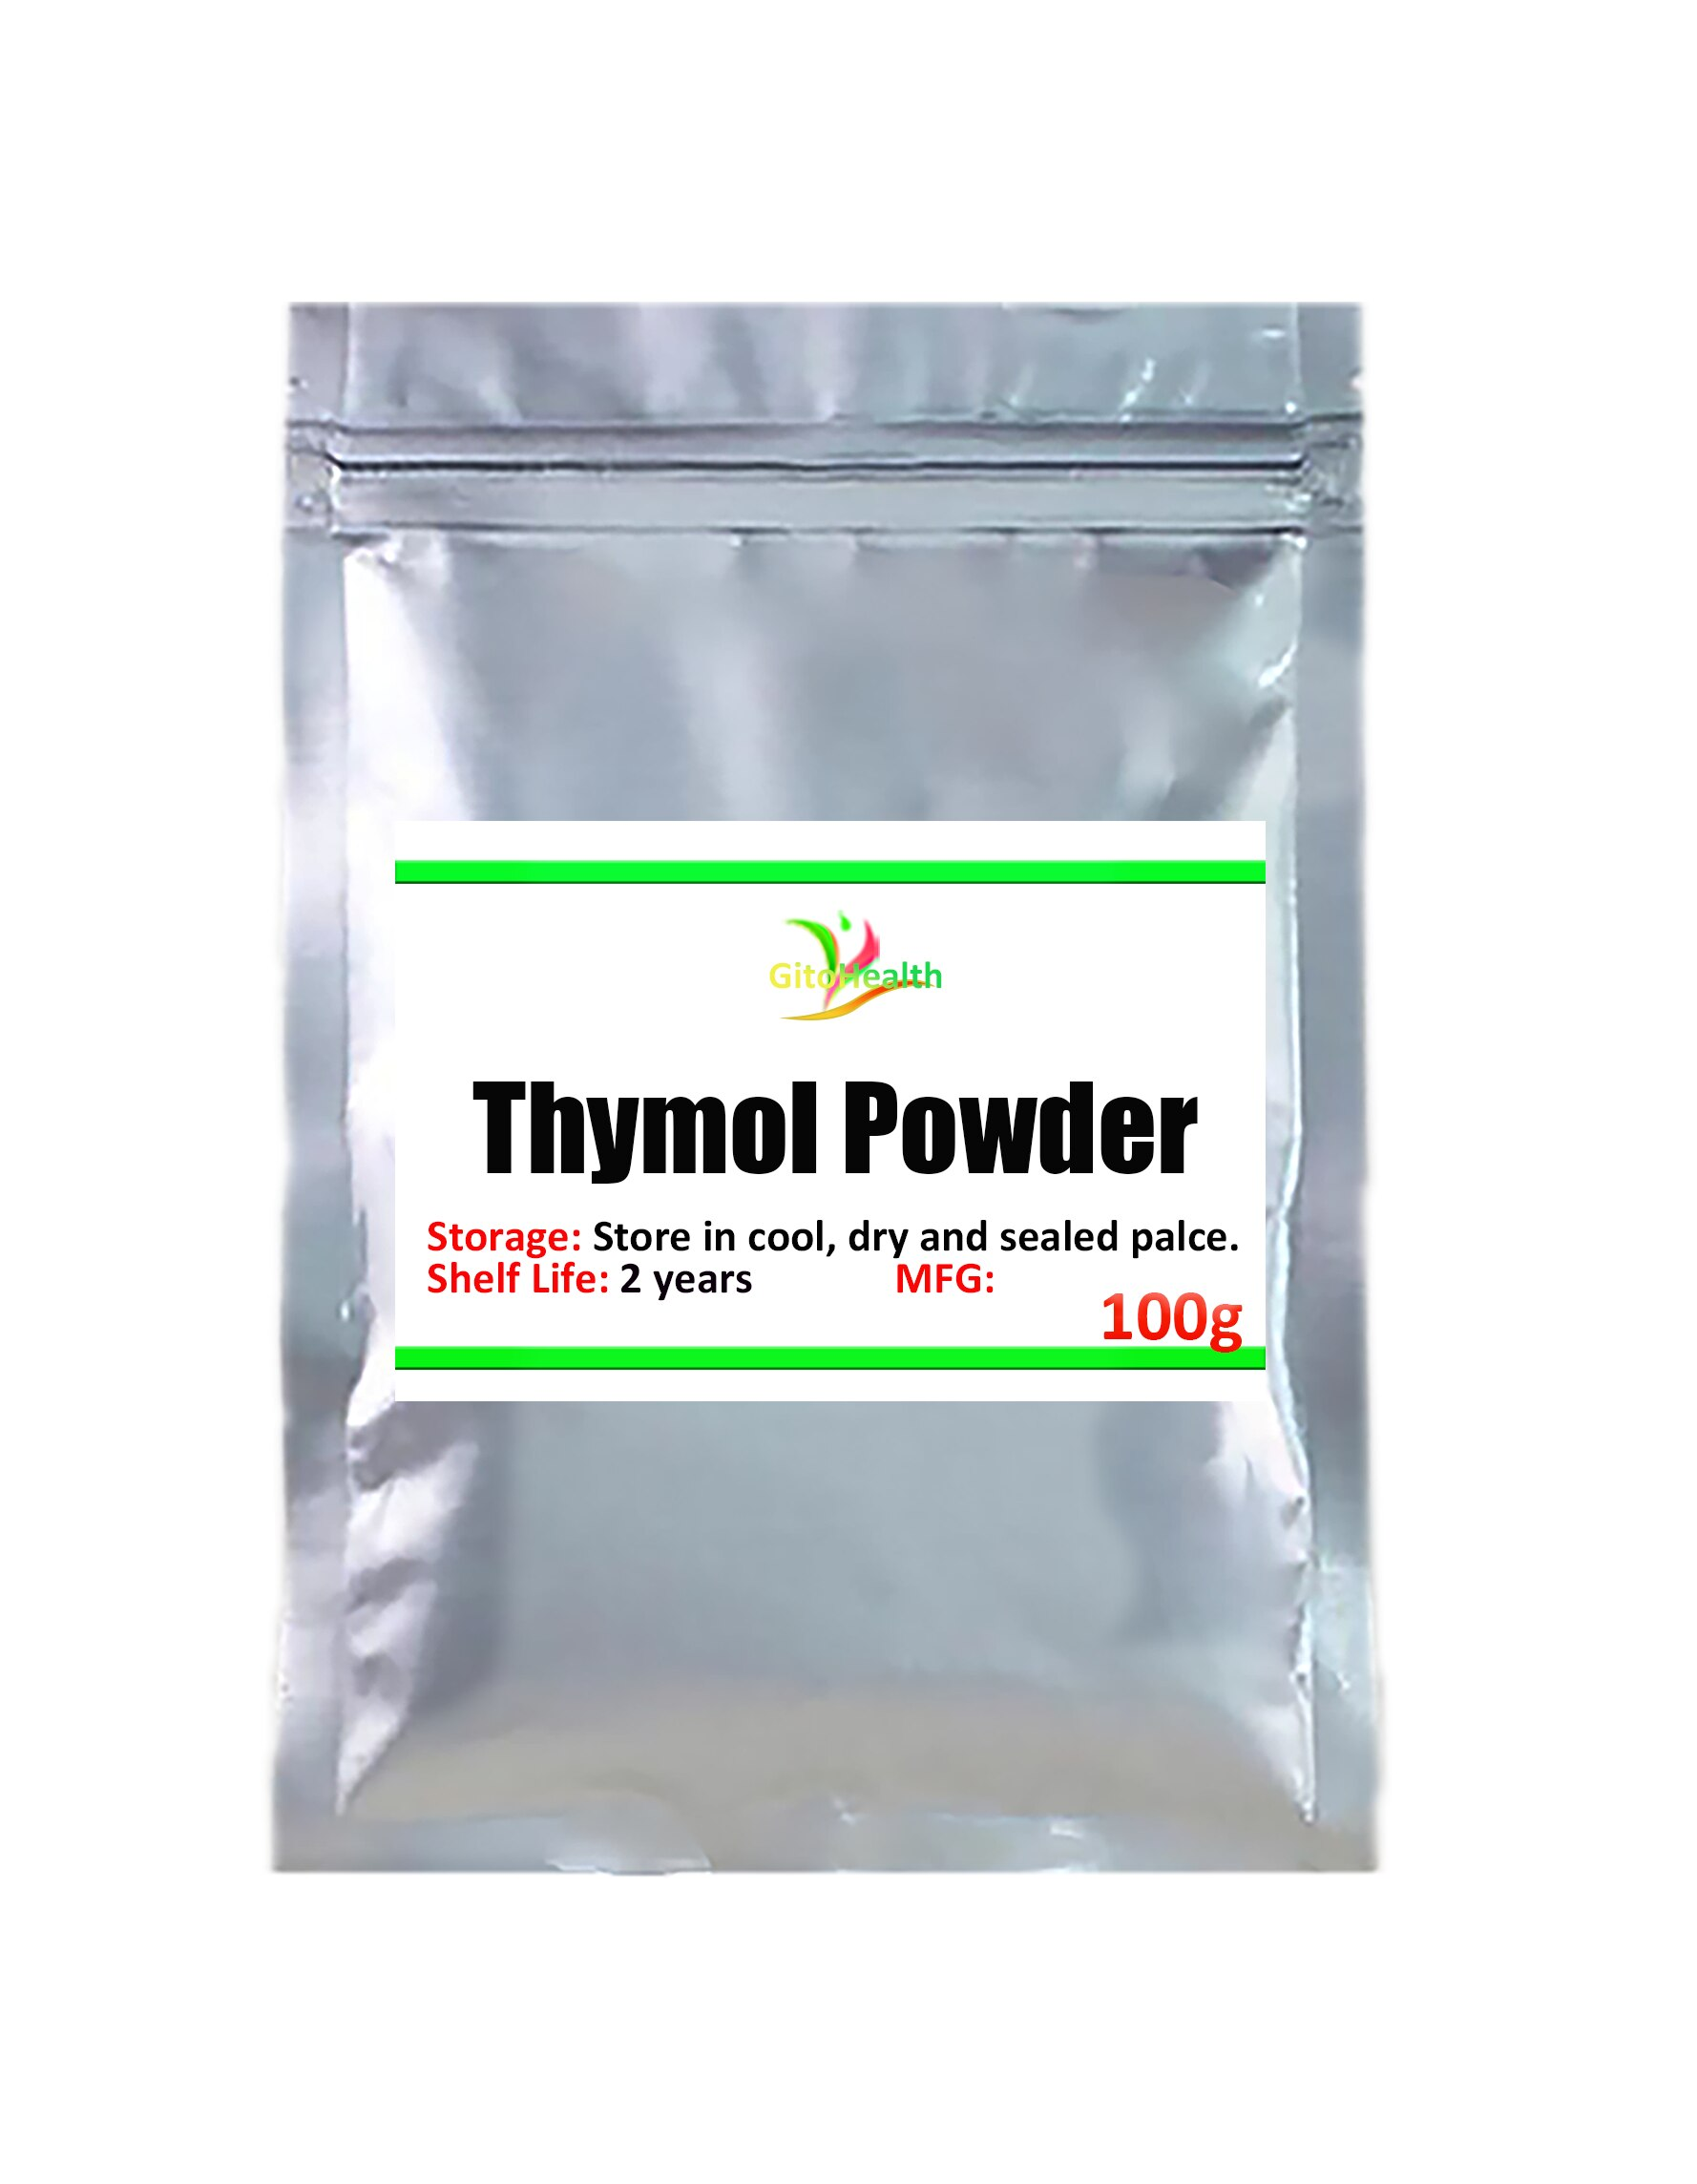Insecticide: (243, 262, 1404, 1920)
